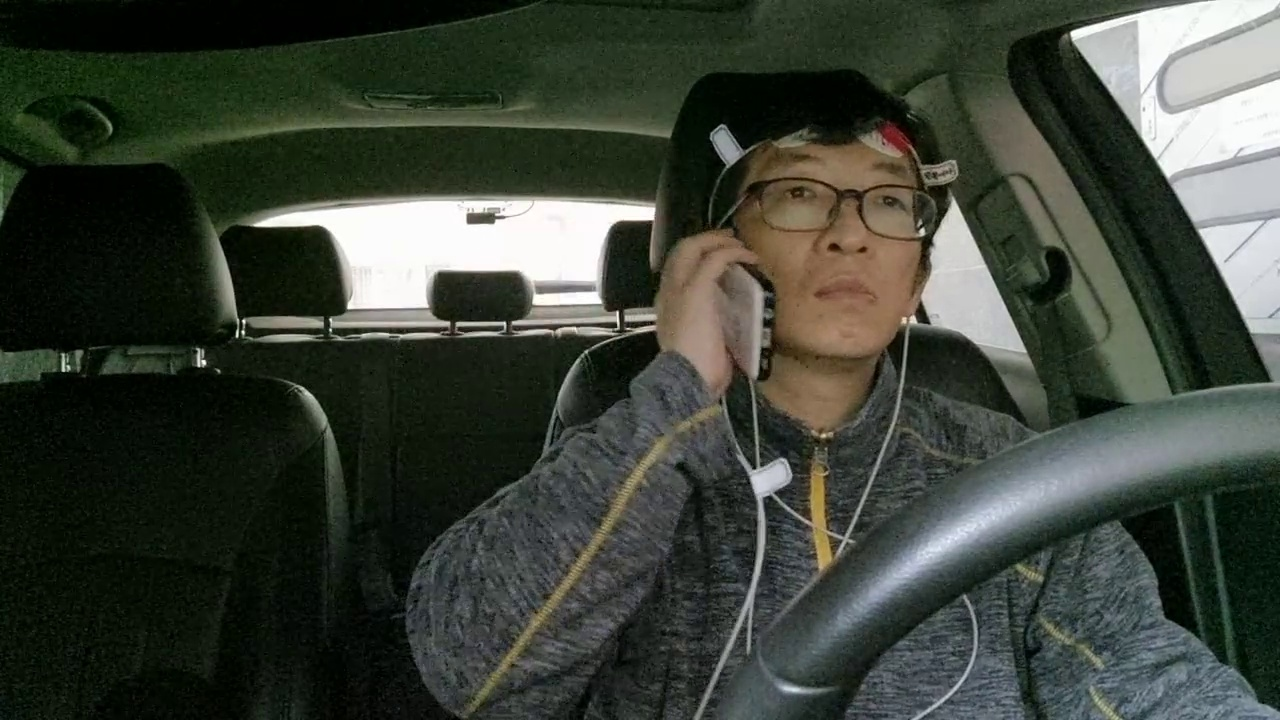phone: (636, 202, 819, 428)
